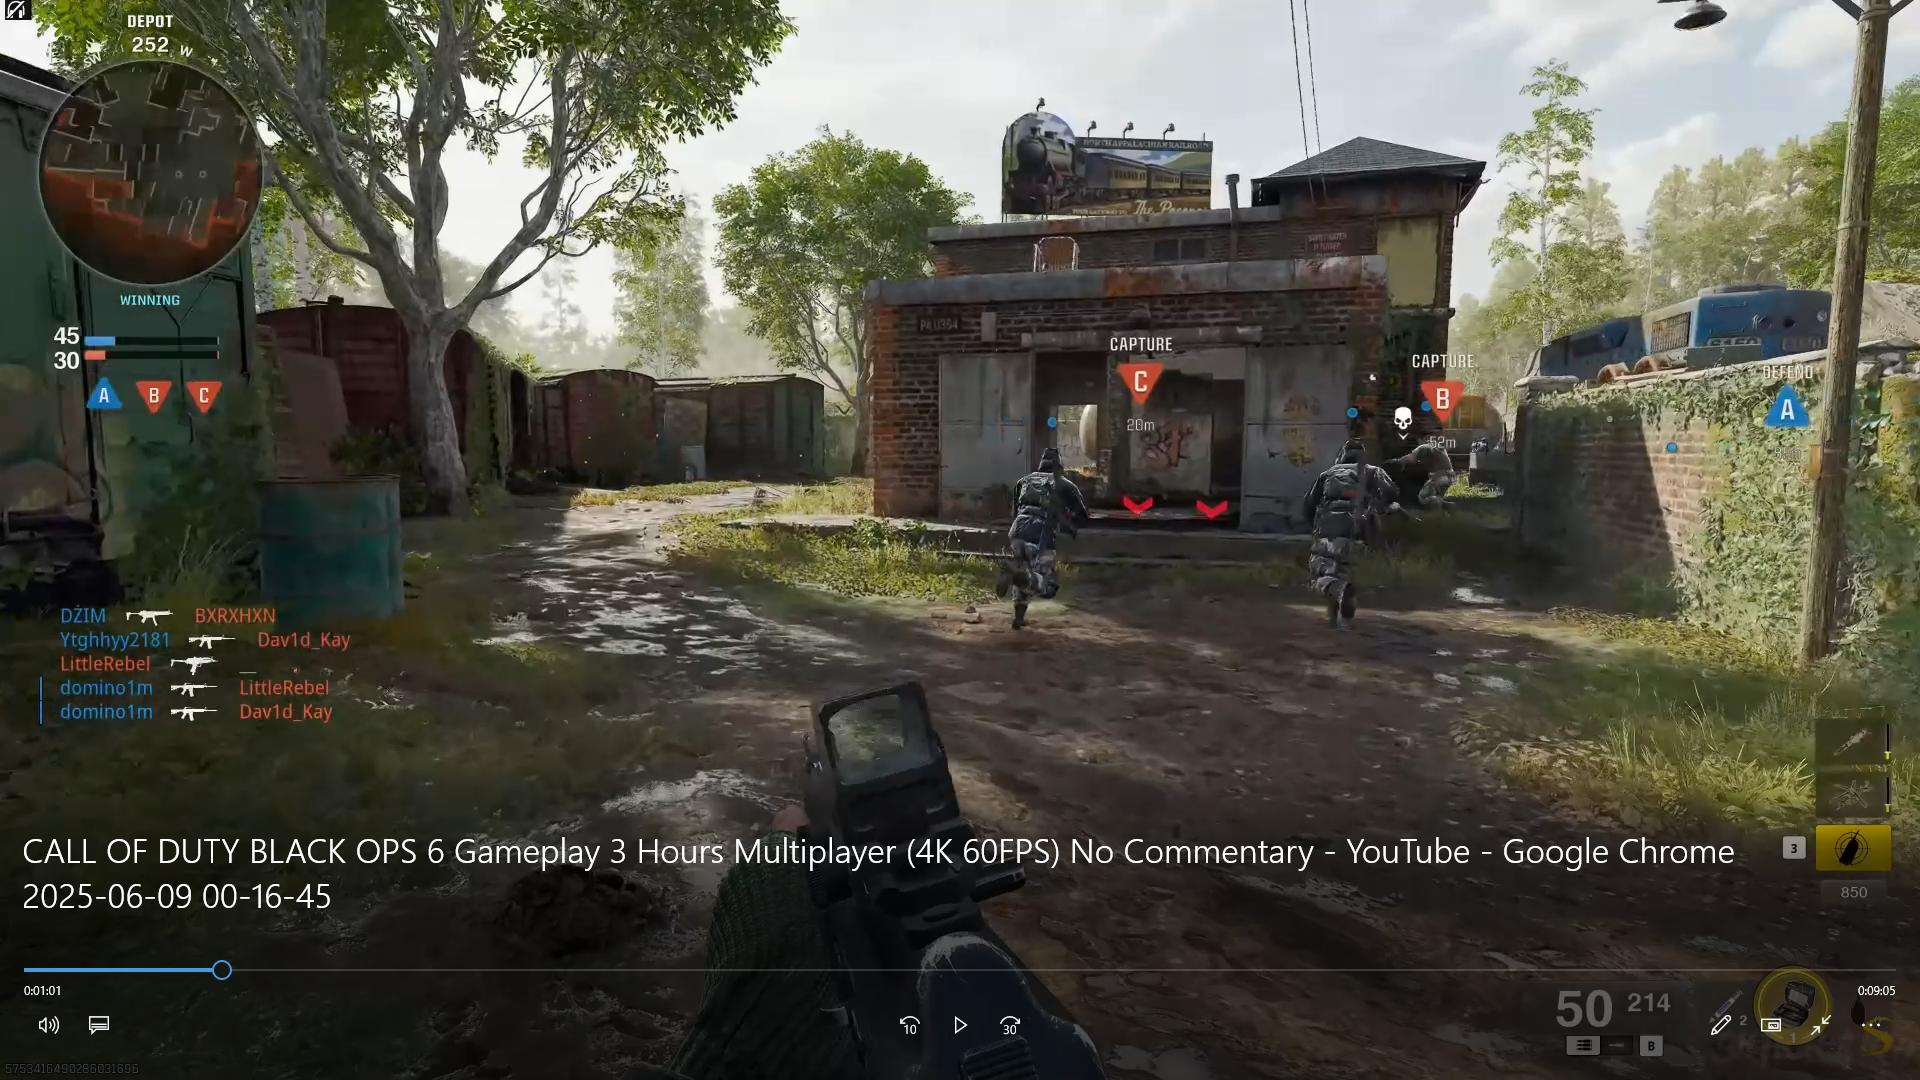Enemy: (1009, 447, 1080, 618), (1313, 439, 1378, 621), (1399, 435, 1460, 518)
